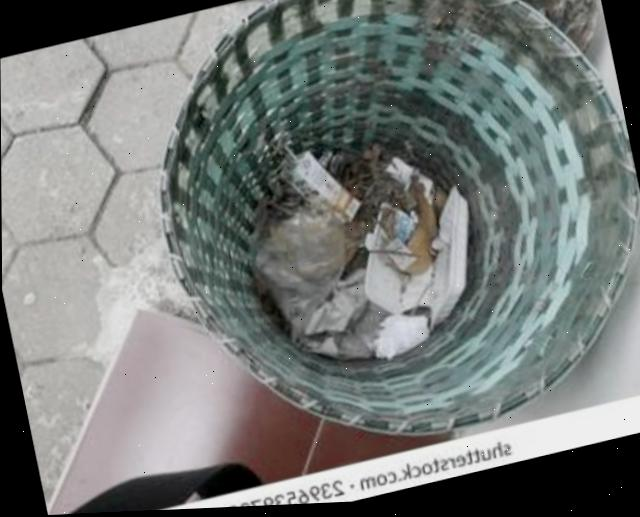Garbage: (240, 137, 478, 368)
contaminated_waste: (247, 209, 346, 328)
